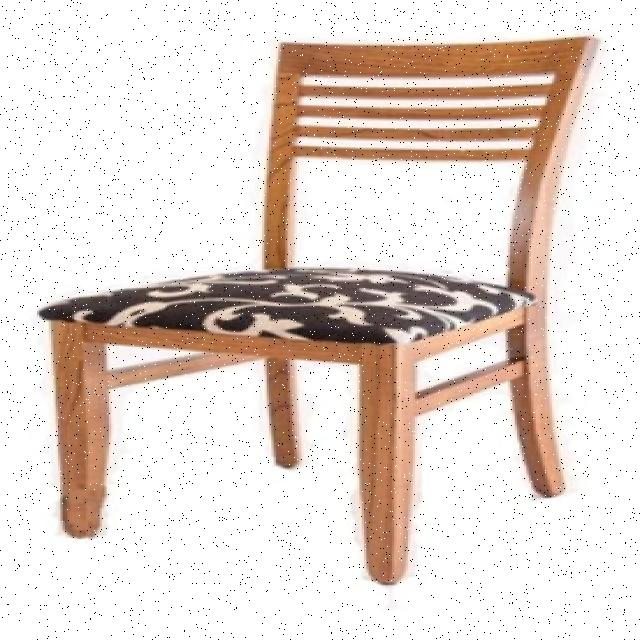bottle: (44, 33, 590, 585)
